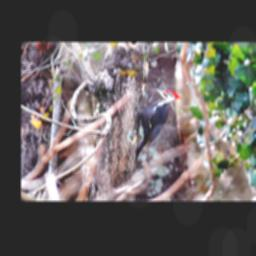Woodpecker: (135, 88, 185, 162)
